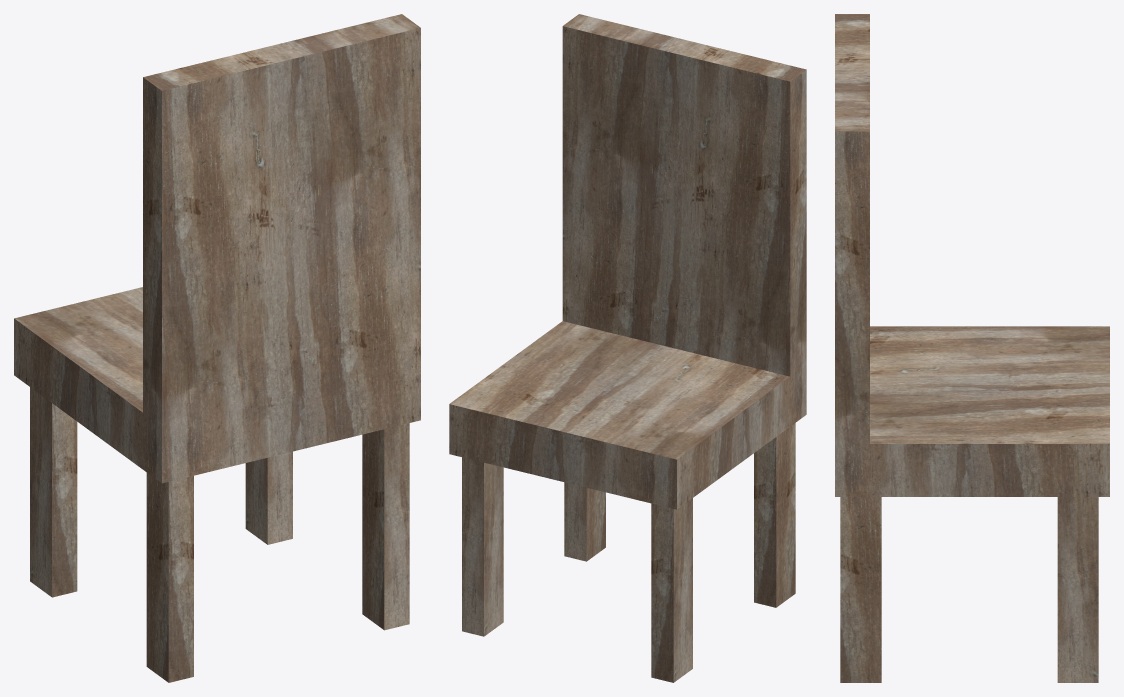
File: chair.fbx
3 renders of one model, left to right at view 1: azimuth 30°, elevation 25°; view 2: azimuth 150°, elevation 25°; view 3: azimuth 270°, elevation 25°, orthographic. The views are drawn at different scales.
Visible parts, largest first — view 1: mesh_chair; view 2: mesh_chair; view 3: mesh_chair.
Boxes of the visible parts, box(x1,y1,x2,y2) form: mesh_chair: box(14, 14, 420, 682); mesh_chair: box(449, 14, 806, 682); mesh_chair: box(835, 14, 1109, 682).
Bounding box in the file's own units: 66.19 × 146 × 65.41.
